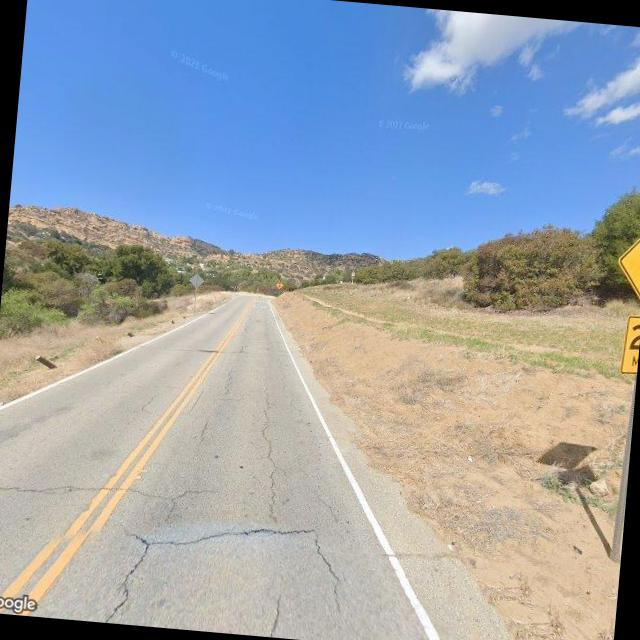crack: (123, 496, 324, 562), (0, 462, 216, 520), (248, 375, 288, 520), (97, 528, 149, 624), (304, 519, 349, 615)
